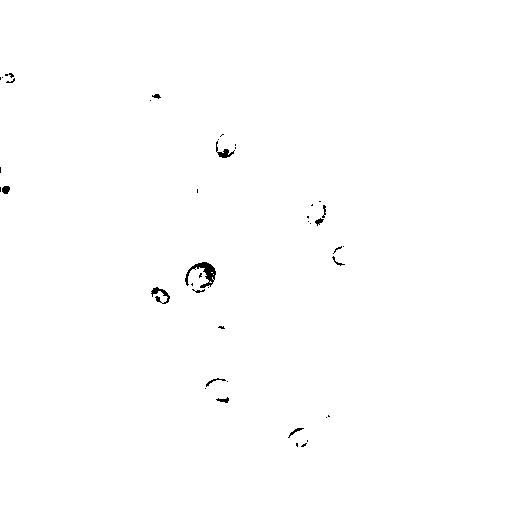micro-algae: (142, 191, 185, 236), (183, 258, 217, 295), (201, 377, 237, 408), (1, 171, 24, 206), (214, 130, 238, 162), (305, 198, 328, 231), (283, 426, 311, 452), (332, 243, 355, 265), (150, 285, 171, 305), (197, 185, 212, 203), (1, 71, 17, 85)
